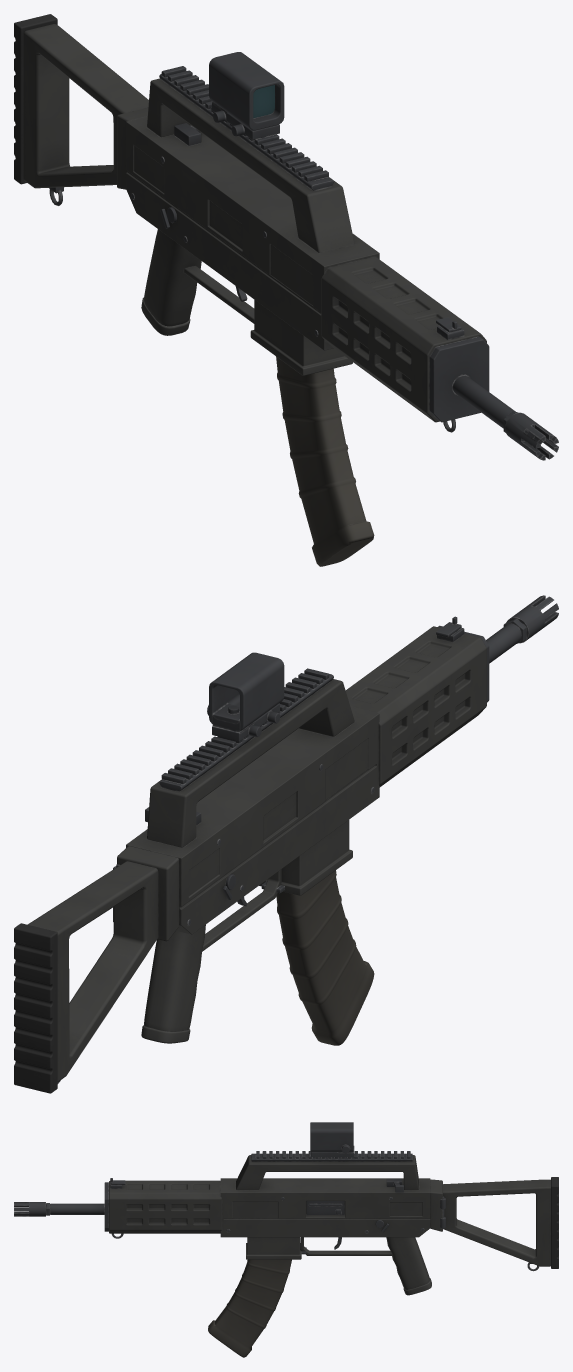
Rendered from Carbine.glb.
The picture shows the model from 3 angles, top to bottom: view 1: azimuth 30°, elevation 25°; view 2: azimuth 150°, elevation 25°; view 3: azimuth 270°, elevation 25°; orthographic projection. The views are drawn at different scales.
Parts seen in each view (by area): view 1: Body, Magazine; view 2: Body, Magazine; view 3: Body, Magazine.
Boxes of the visible parts, x1,y1,x2,y2 form: Body: (14,14,558,460); Magazine: (276,356,374,566); Body: (14,595,558,1093); Magazine: (276,870,374,1045); Body: (14,1122,558,1295); Magazine: (208,1259,291,1357).
Bounding box in the file's own units: 0.0625 × 0.3872 × 0.831.
2 materials, 2 textured.
